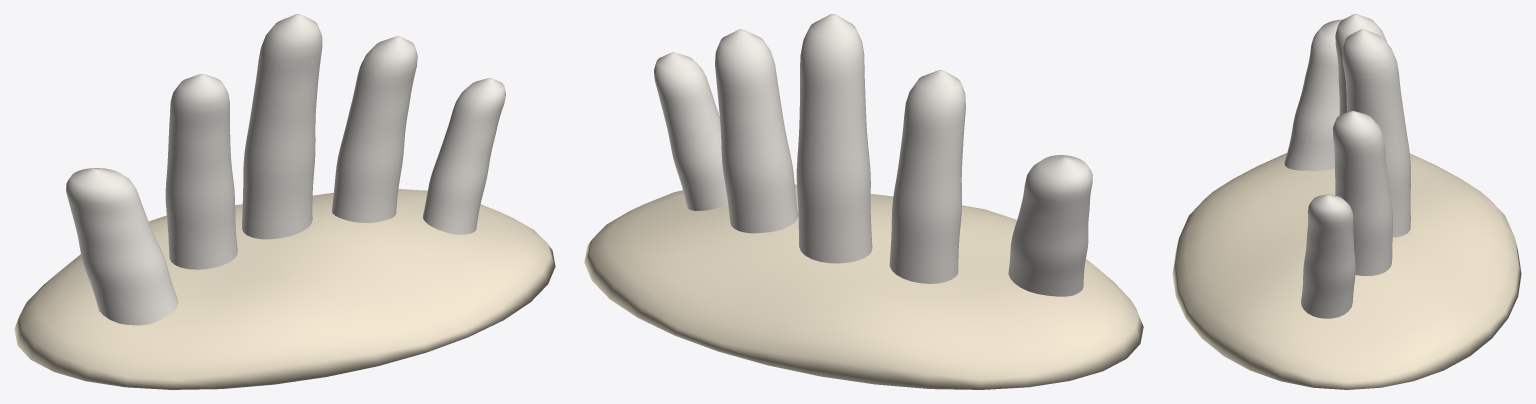
Rendered from LaMano_LosDedos.fbx.
3 renders of one model, left to right at view 1: azimuth 30°, elevation 25°; view 2: azimuth 150°, elevation 25°; view 3: azimuth 270°, elevation 25°, orthographic. The views are drawn at different scales.
Visible parts, largest first — view 1: LaMano_SandMound, Finger_Middle, Finger_Index, Finger_Thumb, Finger_Ring, Finger_Pinky; view 2: LaMano_SandMound, Finger_Middle, Finger_Index, Finger_Ring, Finger_Thumb, Finger_Pinky; view 3: LaMano_SandMound, Finger_Ring, Finger_Middle, Finger_Pinky, Finger_Thumb, Finger_Index.
Part boxes in pixels (x1,y1,x2,y2): LaMano_SandMound: (14,189,555,389); Finger_Middle: (242,14,322,239); Finger_Index: (165,74,237,269); Finger_Thumb: (66,168,178,325); Finger_Ring: (332,36,417,222); Finger_Pinky: (423,78,505,234); LaMano_SandMound: (584,184,1143,389); Finger_Middle: (796,14,872,263); Finger_Index: (889,70,965,283); Finger_Ring: (715,29,798,233); Finger_Thumb: (1008,155,1092,296); Finger_Pinky: (654,52,728,210); LaMano_SandMound: (1172,153,1521,389); Finger_Ring: (1332,111,1392,275); Finger_Middle: (1342,29,1410,237); Finger_Pinky: (1301,194,1355,318); Finger_Thumb: (1284,19,1342,170); Finger_Index: (1335,14,1387,114).
Size of the model in its own units: 7.7 by 4.08 by 4.9.
